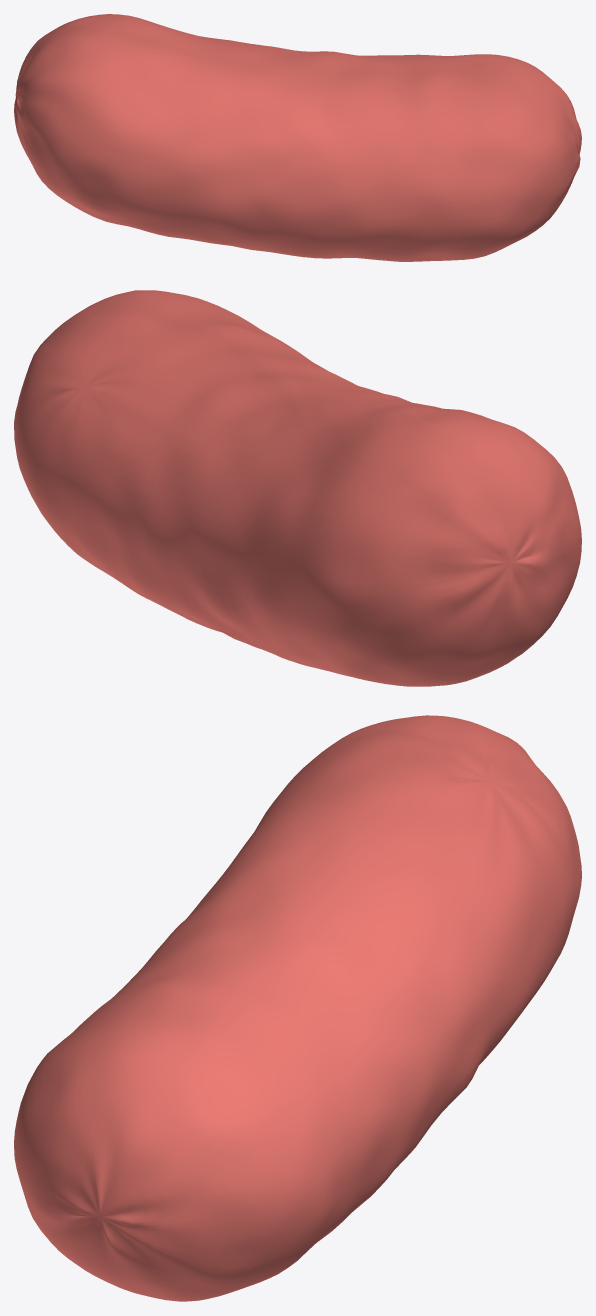
The model's file is E.coli.fbx.
3 renders of one model, top to bottom at view 1: azimuth 30°, elevation 25°; view 2: azimuth 150°, elevation 25°; view 3: azimuth 270°, elevation 25°, orthographic. The views are drawn at different scales.
Visible parts, largest first — view 1: E. coli; view 2: E. coli; view 3: E. coli.
Boxes of the visible parts, bbox=[...] form: E. coli: bbox=[14, 14, 581, 261]; E. coli: bbox=[14, 290, 581, 686]; E. coli: bbox=[14, 715, 581, 1301].
Bounding box in the file's own units: 460 × 223 × 325.
